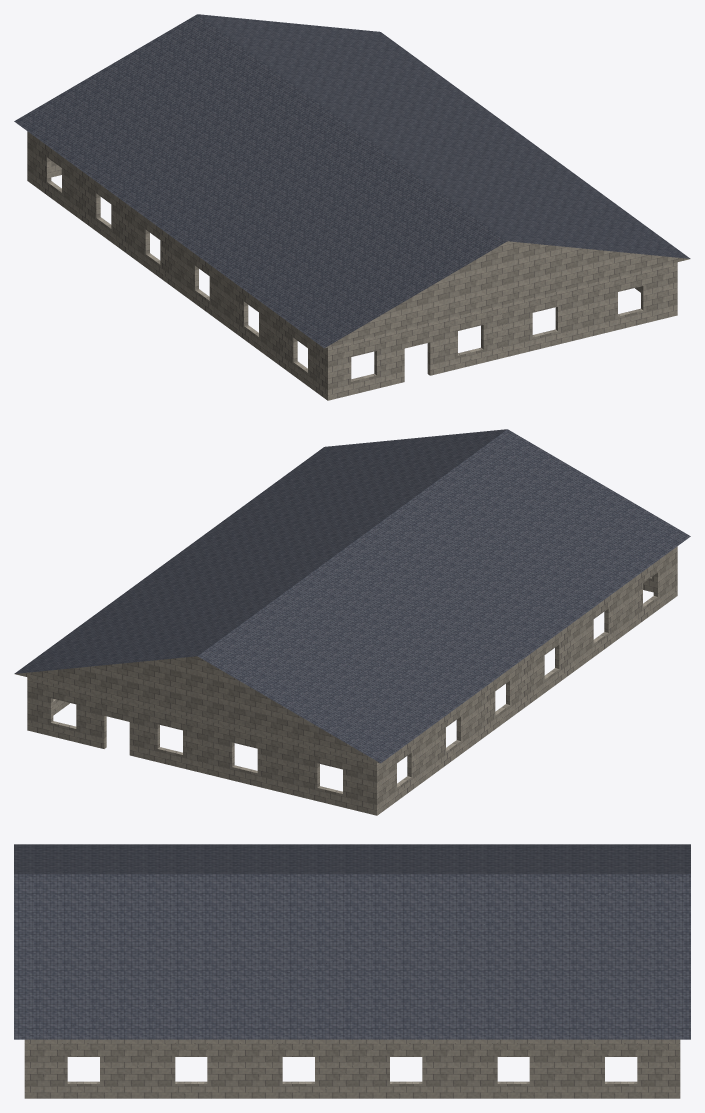
The model's file is shell.obj.
The picture shows the model from 3 angles, top to bottom: view 1: azimuth 30°, elevation 25°; view 2: azimuth 150°, elevation 25°; view 3: azimuth 270°, elevation 25°; orthographic projection. The views are drawn at different scales.
Parts seen in each view (by area): view 1: slate, stone; view 2: slate, stone; view 3: slate, stone.
Boxes of the visible parts, x1=… form: slate: x1=14, y1=14, x2=690, y2=348; stone: x1=27, y1=131, x2=689, y2=400; slate: x1=14, y1=429, x2=690, y2=763; stone: x1=15, y1=546, x2=677, y2=815; slate: x1=14, y1=844, x2=690, y2=1039; stone: x1=24, y1=1039, x2=680, y2=1098.
Bounding box in the file's own units: 34.4 × 10.8 × 50.4.
2 materials, 2 textured.
